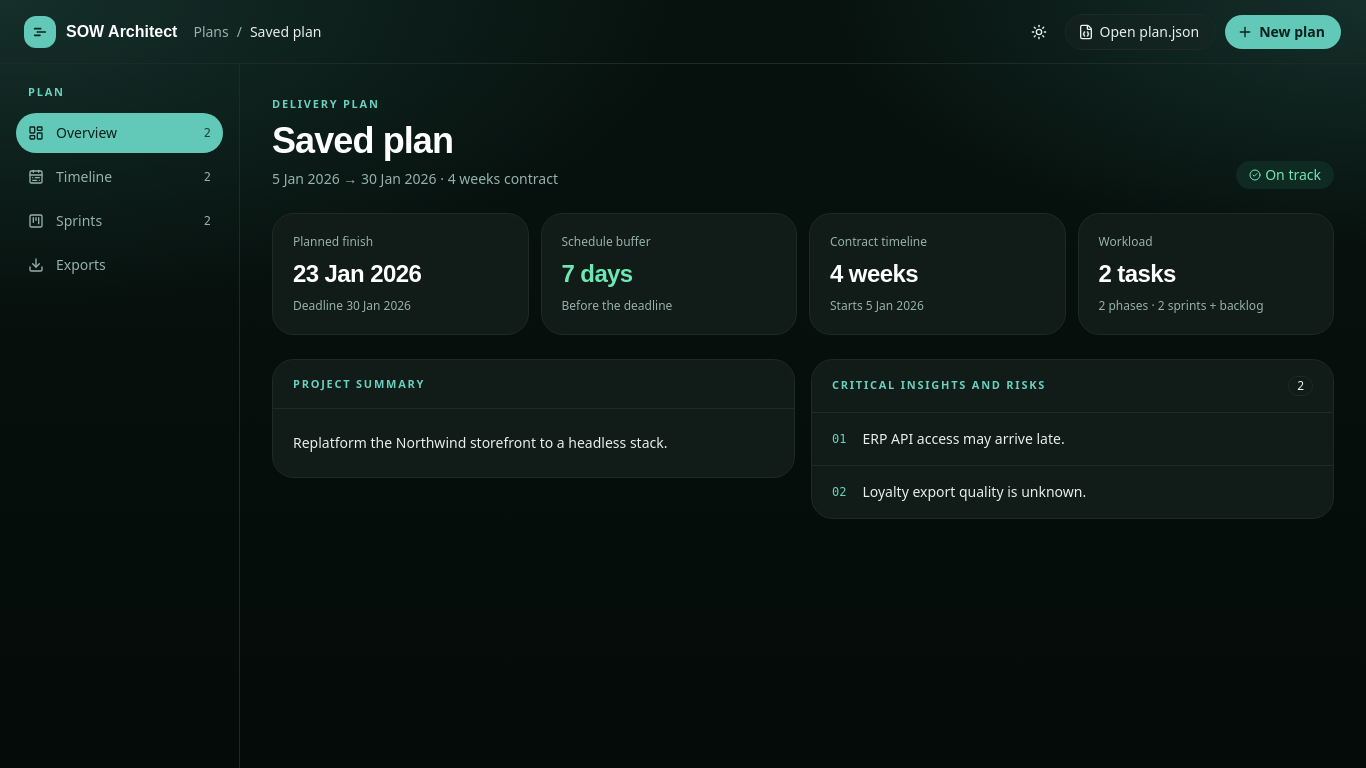
Unsaved edits › asks before an edited plan is replaced
The image size is (1366, 768).
Earlier steps of the test are not shown.
Expected: the heading "Saved plan" is shown, [272,120,453,160]
What coordinates should you click on to do the following:
click the button "Timeline 2"
I would click on:
 (120, 176)
Its box is [16,156,223,196].
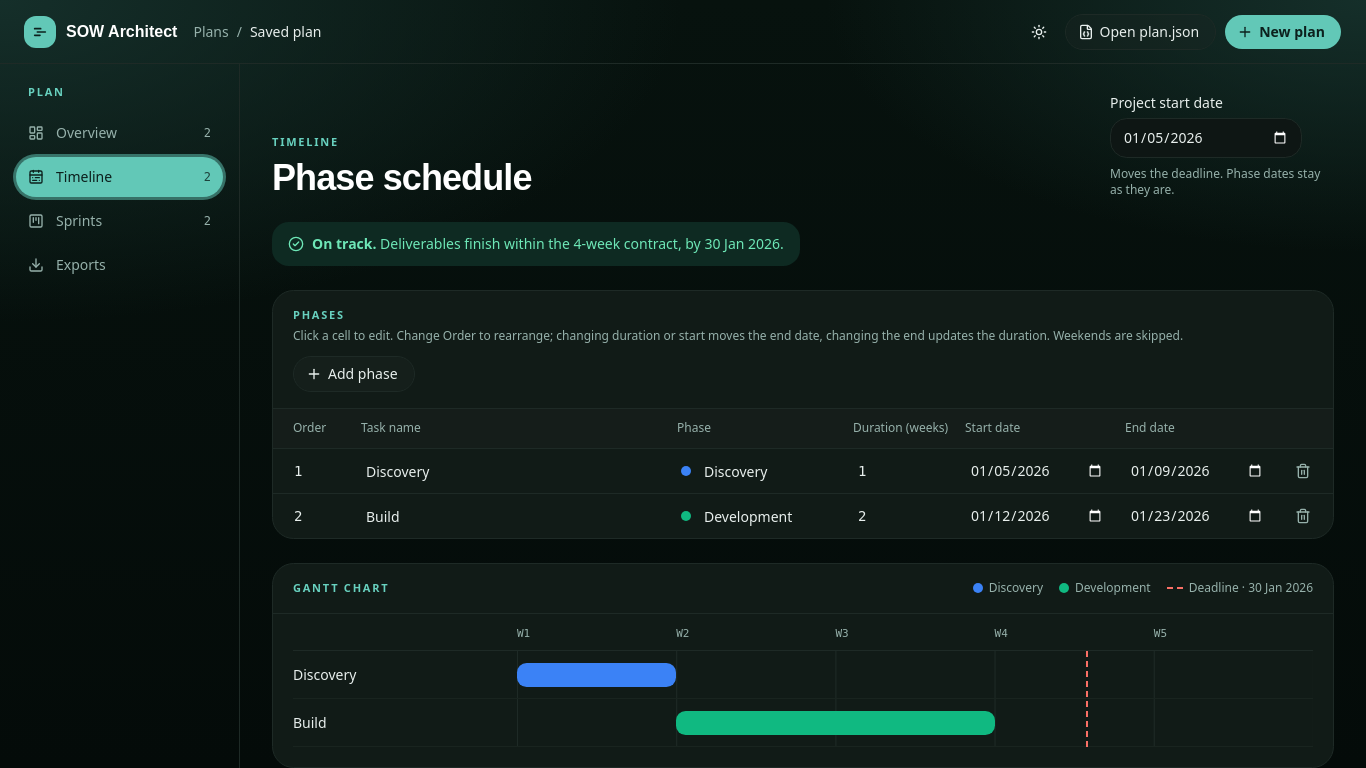
What coordinates should you click on to do the following:
click the button named "Delete Discovery"
I would click on:
 (1303, 471)
Its box is [1285,453,1321,489].
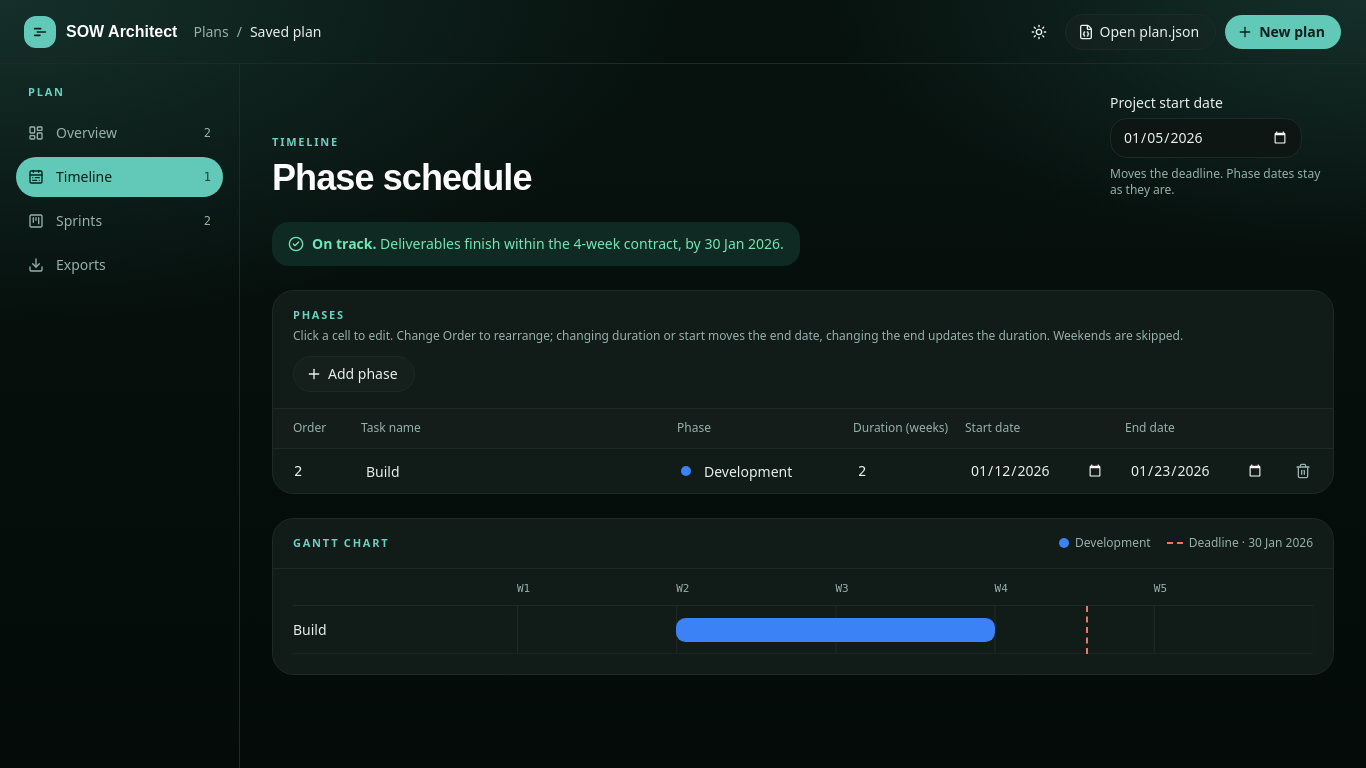
Result: the number field labelled "Task name for Discovery" is gone
What coordinates should you click on to do the following:
click the button "New plan"
I would click on:
 (1283, 32)
Its box is [1224,14,1342,50].
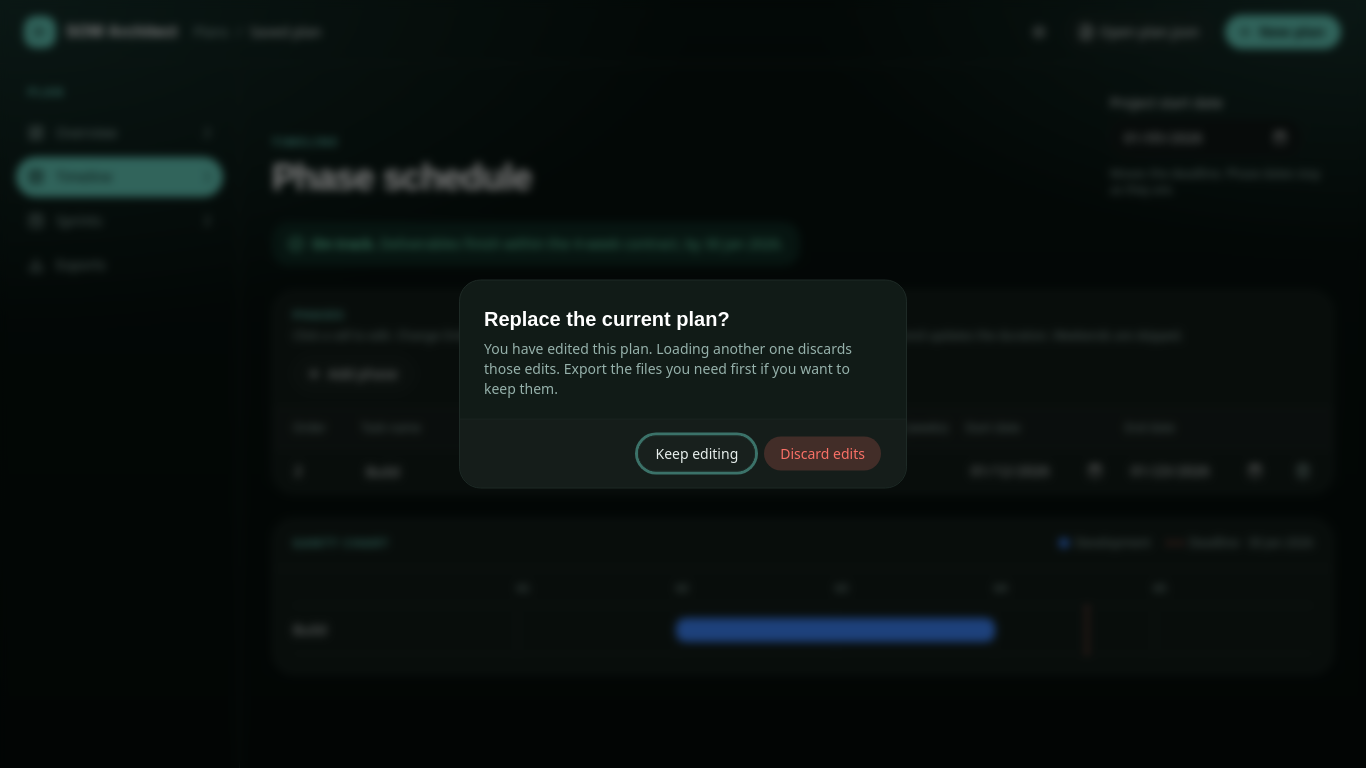
What coordinates should you click on to do the following:
click the button "Keep editing"
I would click on:
 (697, 454)
Its box is [638,436,755,472].
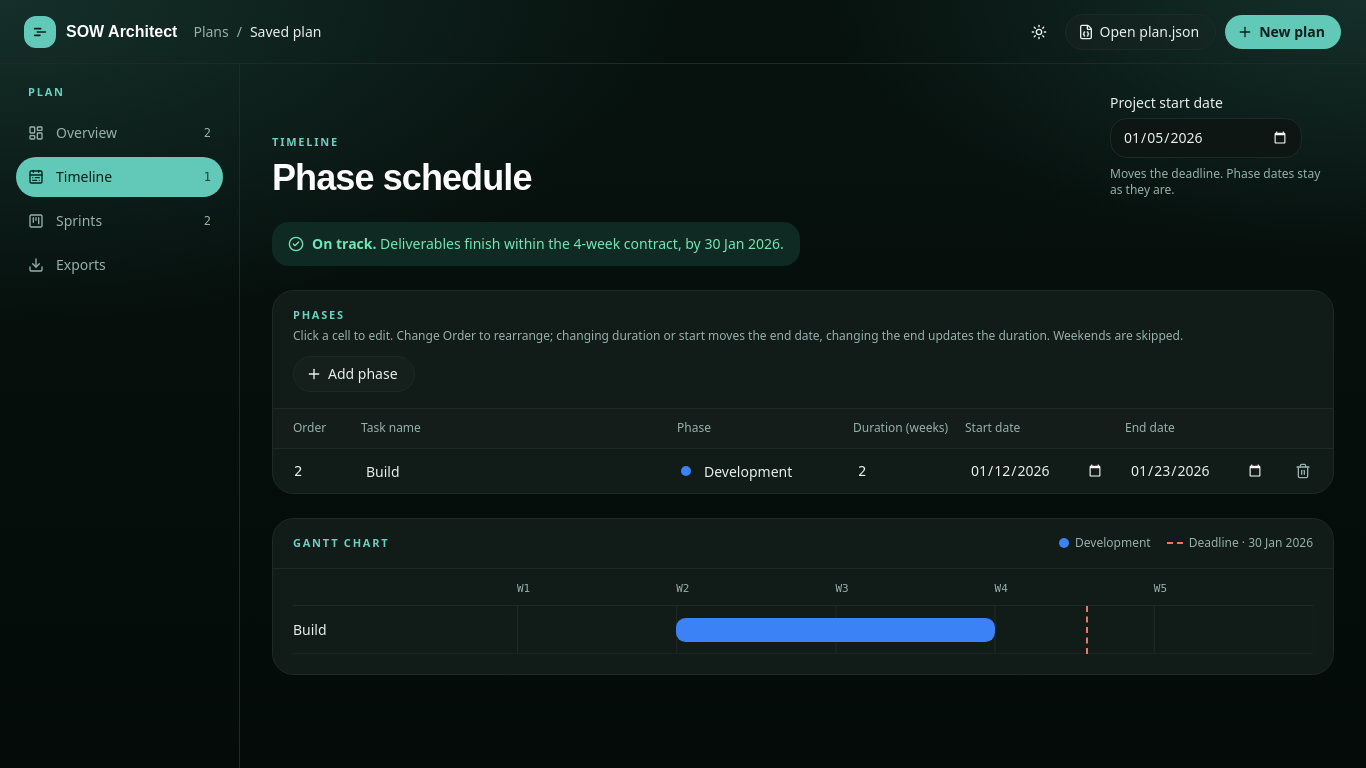
Expected: the button "plan from a SOW" is not shown
What coordinates should you click on to do the following:
click the button "New plan"
I would click on:
 (1283, 32)
Its box is [1224,14,1342,50].
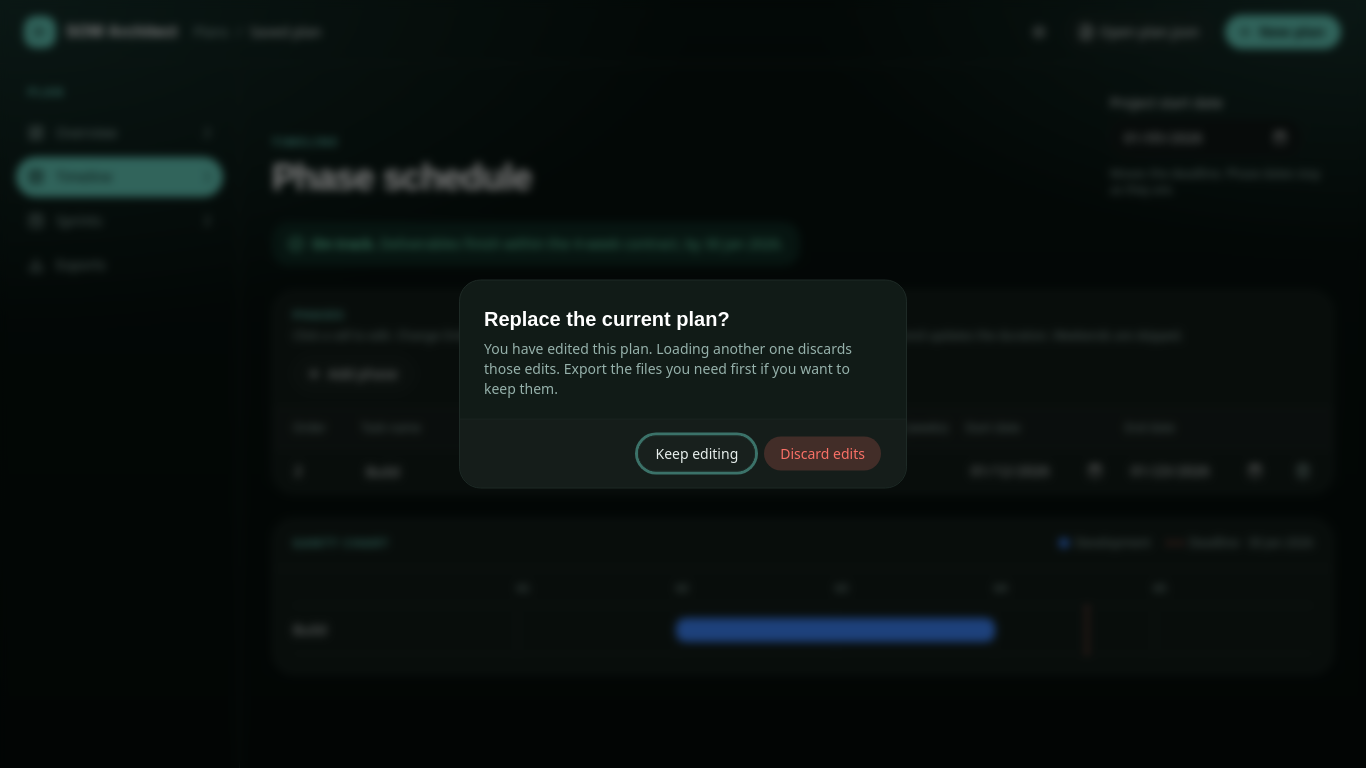
What coordinates should you click on to do the following:
click the button "Discard edits"
I would click on:
 (823, 454)
Its box is [763,436,882,472].
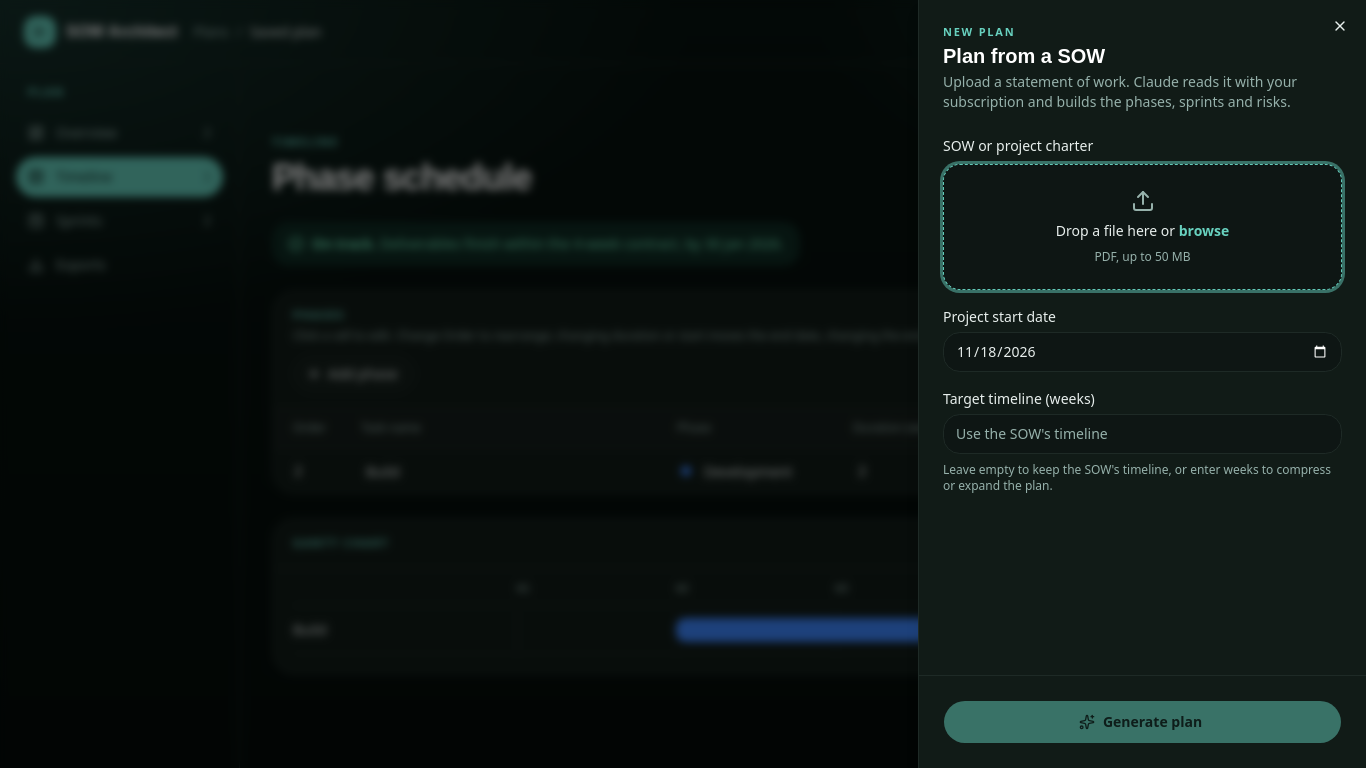
Result: the dialog "Plan from a SOW" is shown at [918,0,1365,767]
